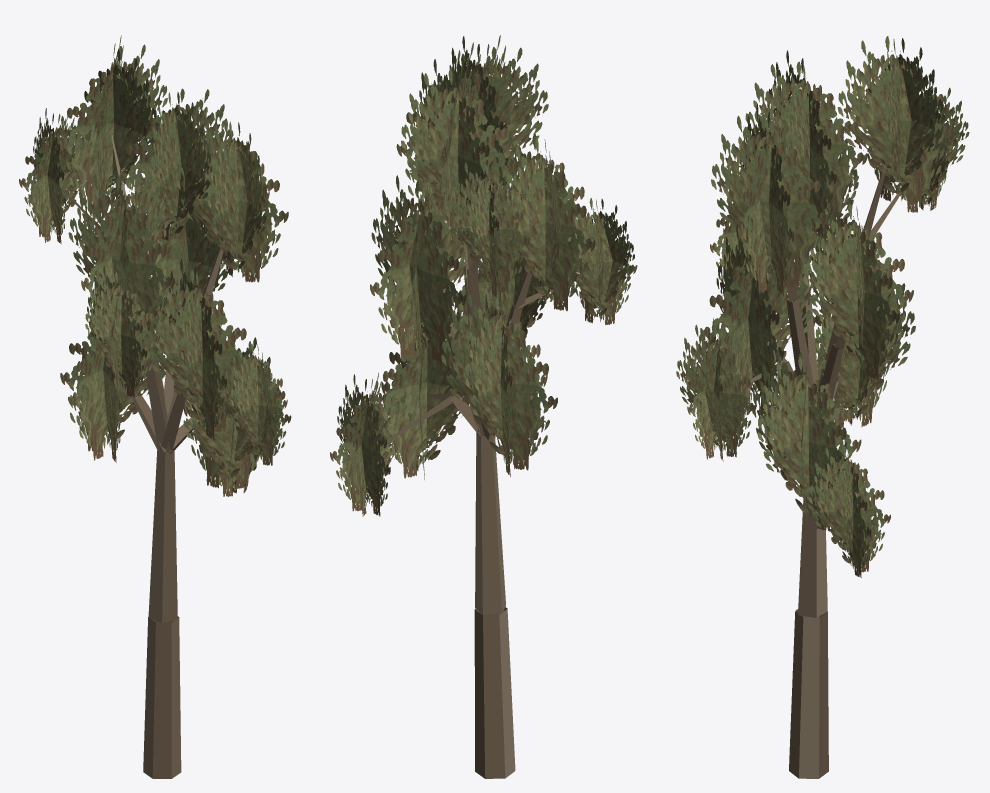
Rendered from Park_Tree_04_Tall_Oval.fbx.
3 renders of one model, left to right at view 1: azimuth 30°, elevation 25°; view 2: azimuth 150°, elevation 25°; view 3: azimuth 270°, elevation 25°, orthographic. The views are drawn at different scales.
Parts seen in each view (by area): view 1: Park_Tree_04_Tall_Oval.001; view 2: Park_Tree_04_Tall_Oval.001; view 3: Park_Tree_04_Tall_Oval.001.
Boxes of the visible parts, x1,y1,x2,y2 form: Park_Tree_04_Tall_Oval.001: [19, 35, 291, 778]; Park_Tree_04_Tall_Oval.001: [330, 35, 637, 778]; Park_Tree_04_Tall_Oval.001: [676, 36, 969, 778].
Size of the model in its own units: 230 by 625 by 234.
